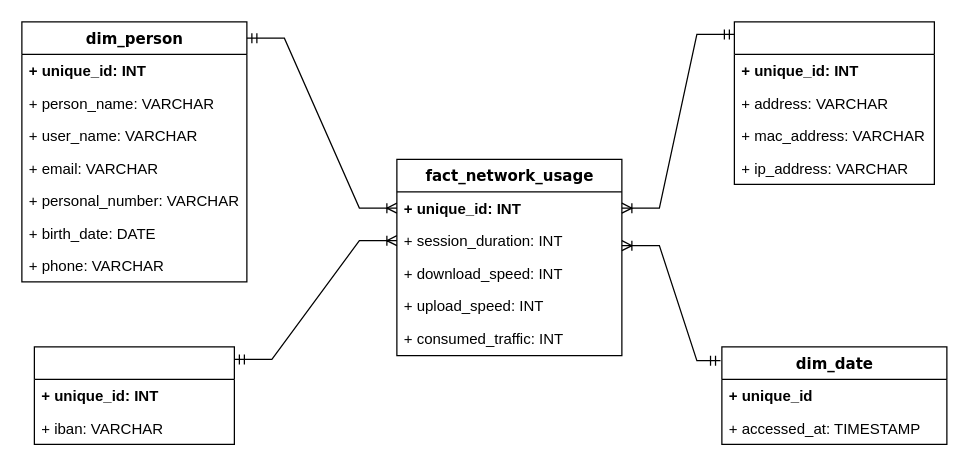
Some shapes in this 969 by 470 pixel diagram are drawn without their labels. The box of each missing label's shape, as (x1, y1, x2, y2) in pixels:
dim_address: (733, 21, 934, 184)
dim_finance: (33, 346, 234, 444)
